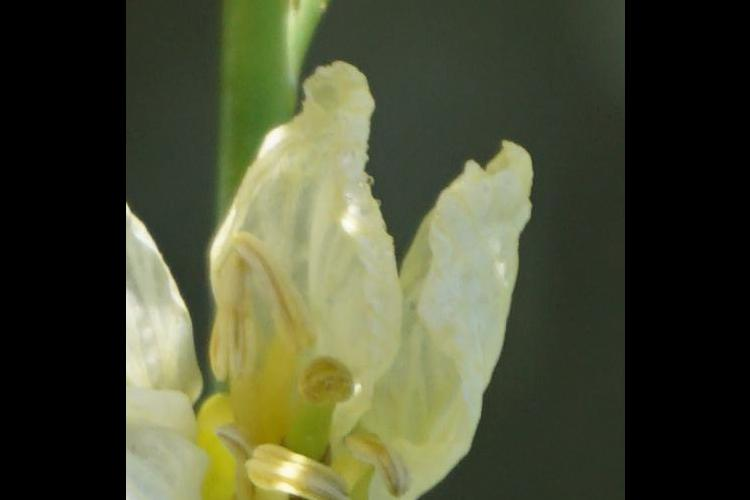white: (127, 96, 517, 500)
